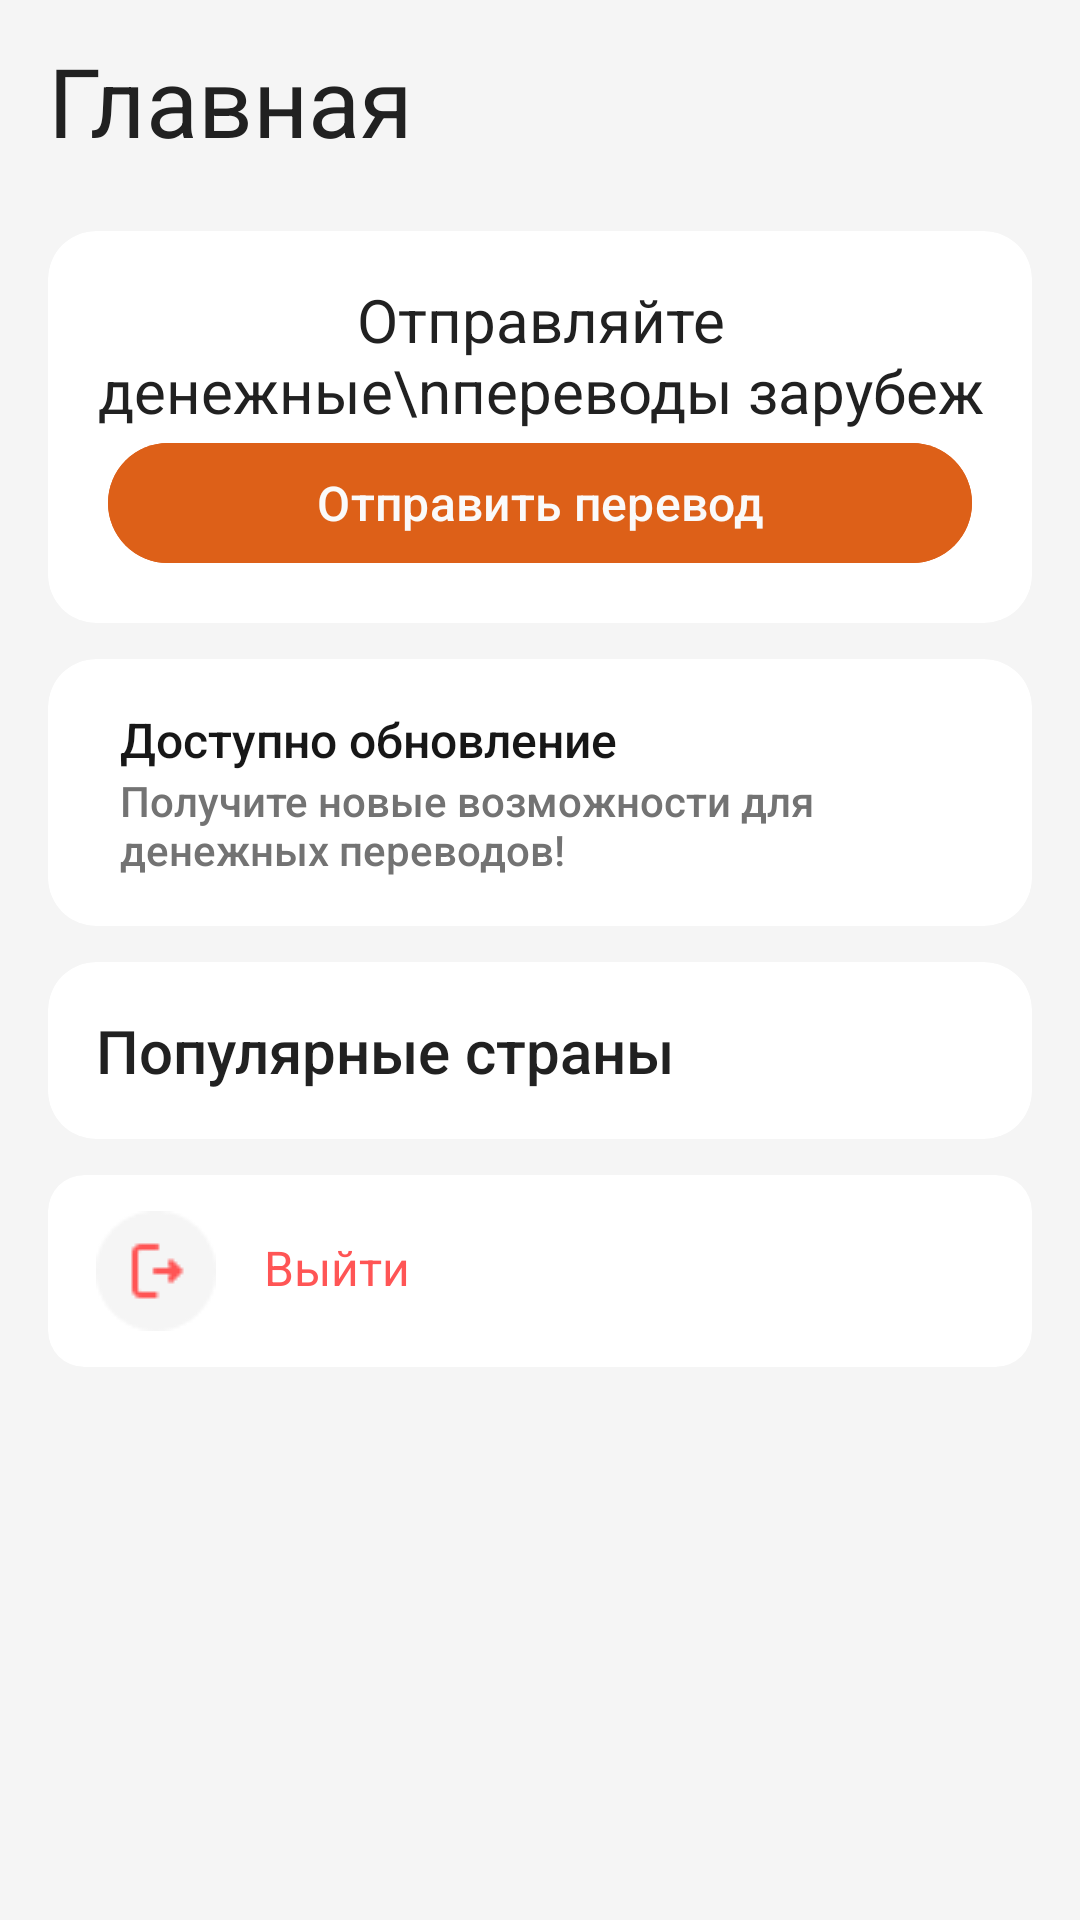

Screen size 1080×1920. Icon name, then its center in pixels as (x,y):
exit: (156,1271)
